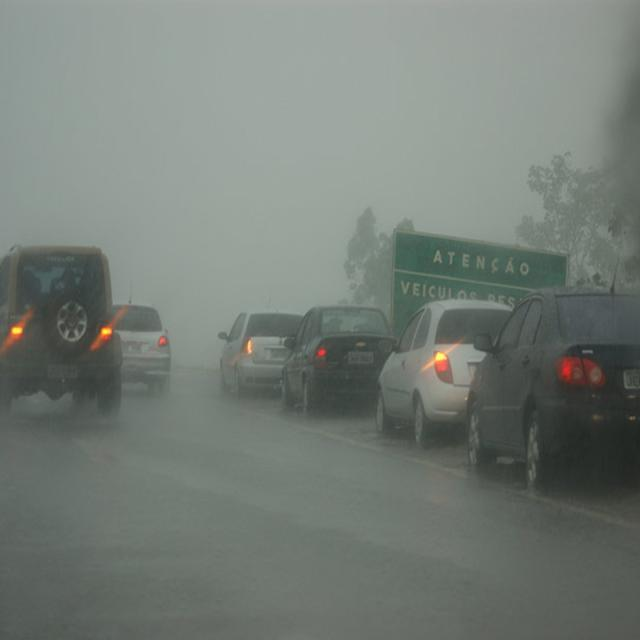car: (462, 285, 640, 490), (1, 243, 123, 419), (372, 300, 507, 445), (277, 305, 393, 412), (216, 309, 302, 396), (102, 303, 172, 397)
